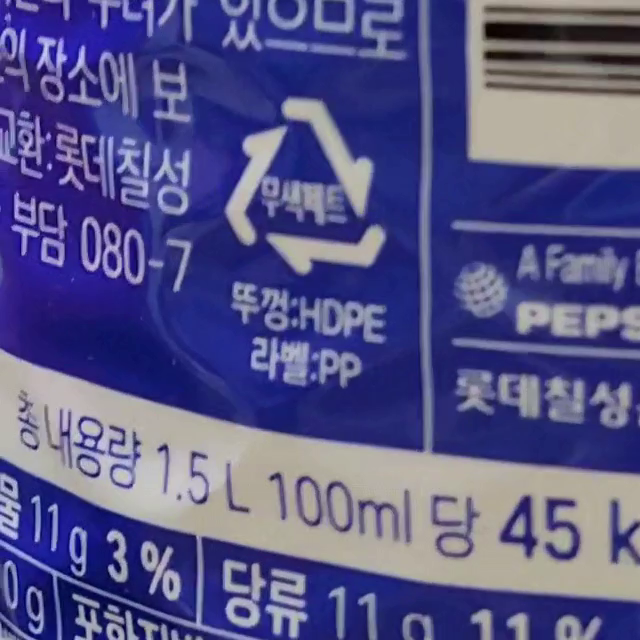ColorlessPet: (227, 99, 384, 274)
